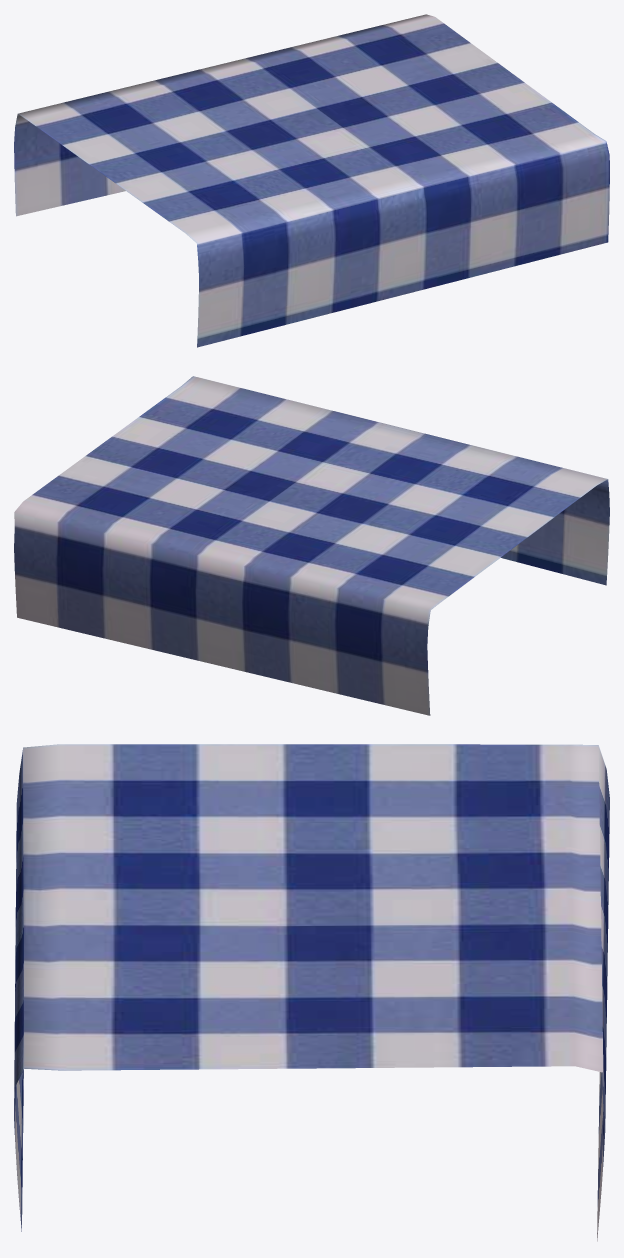
File: table_cloth.fbx
3 renders of one model, top to bottom at view 1: azimuth 30°, elevation 25°; view 2: azimuth 150°, elevation 25°; view 3: azimuth 270°, elevation 25°, orthographic. The views are drawn at different scales.
Visible parts, largest first — view 1: polySurface2; view 2: polySurface2; view 3: polySurface2.
Boxes of the visible parts, bbox=[...] form: polySurface2: bbox=[14, 14, 609, 347]; polySurface2: bbox=[14, 376, 609, 715]; polySurface2: bbox=[14, 744, 609, 1241].
Size of the model in its own units: 4.87 by 1.24 by 3.75.
1 material, 1 textured.
